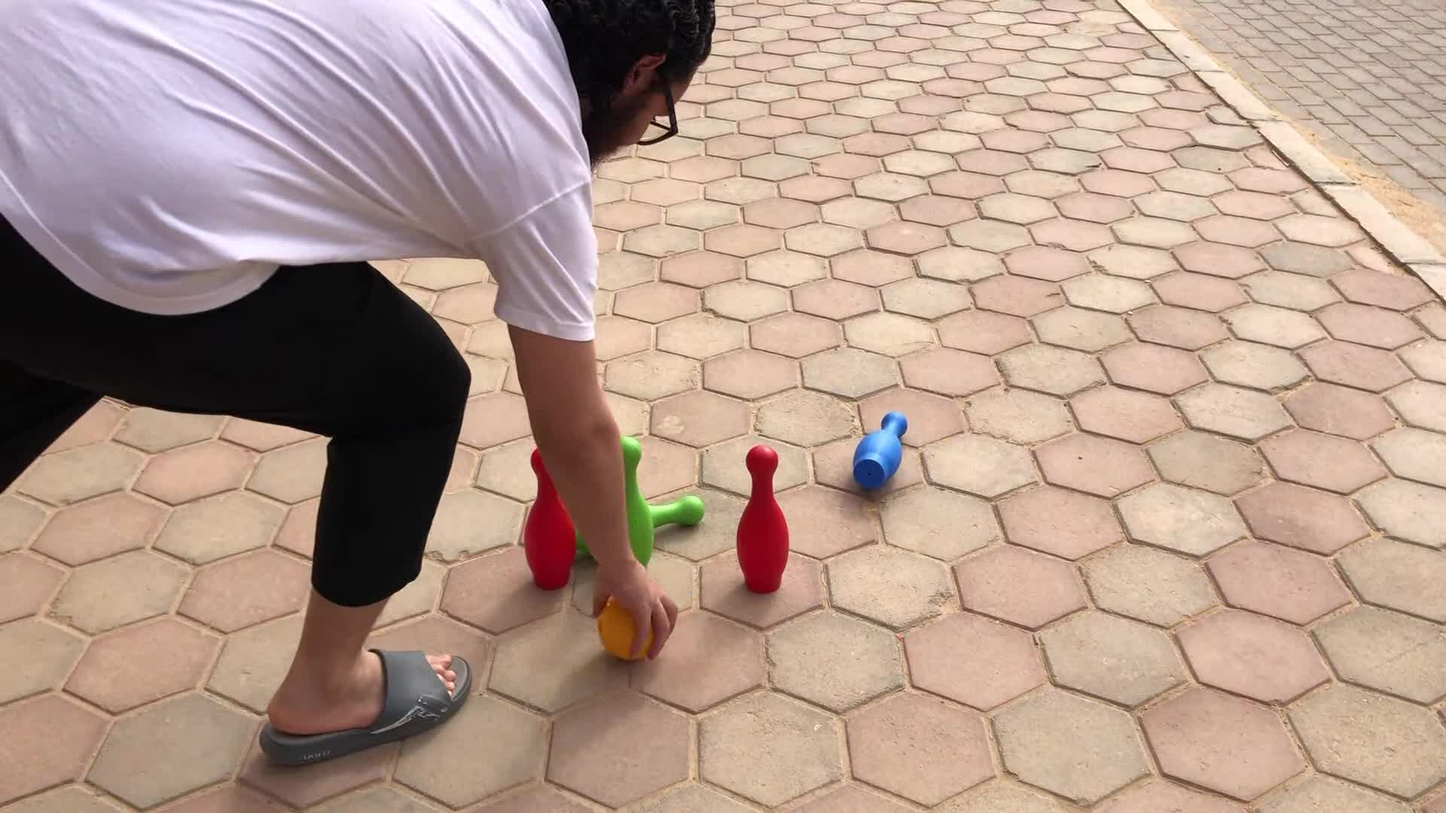pin: (737, 445, 790, 592), (524, 448, 575, 590), (854, 412, 908, 495)
